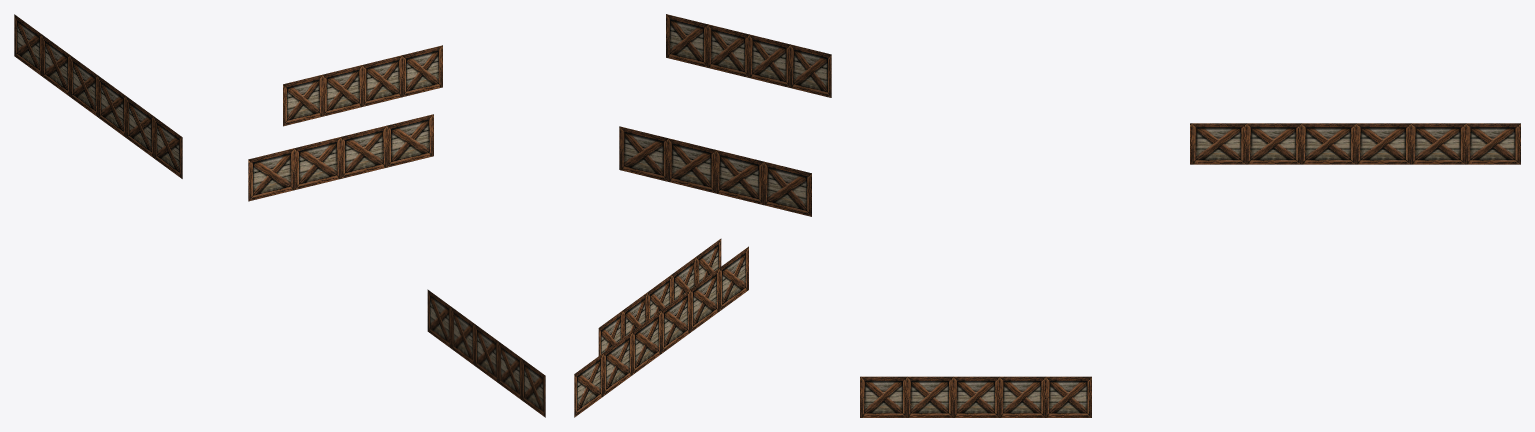
Rendered from LAKETOWN_EXTERIOR_PS_LT_PANELS2467.fbx.
The picture shows the model from 3 angles, left to right: view 1: azimuth 30°, elevation 25°; view 2: azimuth 150°, elevation 25°; view 3: azimuth 270°, elevation 25°; orthographic projection. The views are drawn at different scales.
Parts seen in each view (by area): view 1: LAKETOWN_EXTERIOR_PS_LT_PANELS2467; view 2: LAKETOWN_EXTERIOR_PS_LT_PANELS2467; view 3: LAKETOWN_EXTERIOR_PS_LT_PANELS2467.
Part boxes in pixels (<box>): LAKETOWN_EXTERIOR_PS_LT_PANELS2467: <box>14,14,545,417</box>; LAKETOWN_EXTERIOR_PS_LT_PANELS2467: <box>574,14,831,417</box>; LAKETOWN_EXTERIOR_PS_LT_PANELS2467: <box>860,123,1520,417</box>.
Bounding box in the file's own units: 49575 × 78126 × 148271.
1 material, 1 textured.
